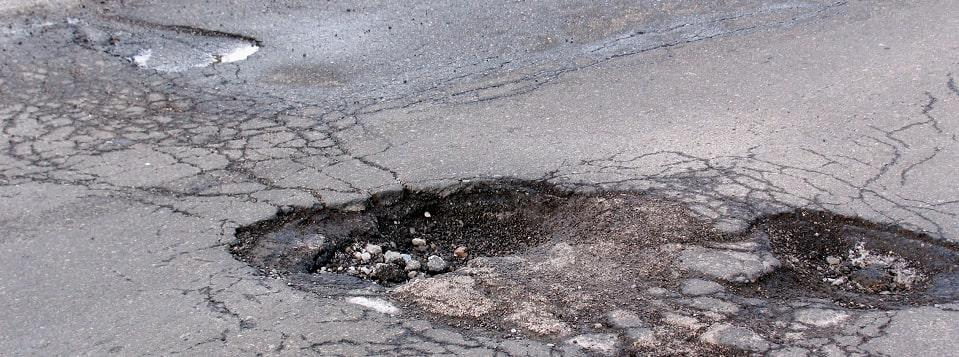Pothole: (194, 120, 937, 356), (17, 3, 275, 77)
